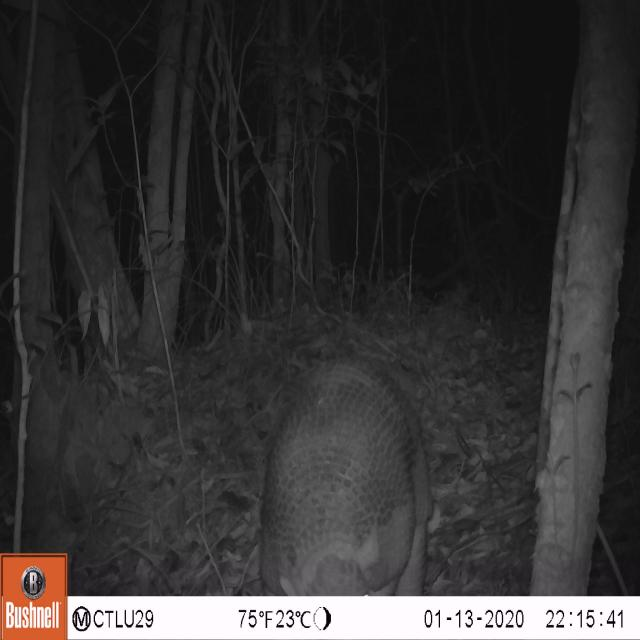Armadillo: (246, 342, 443, 596)
